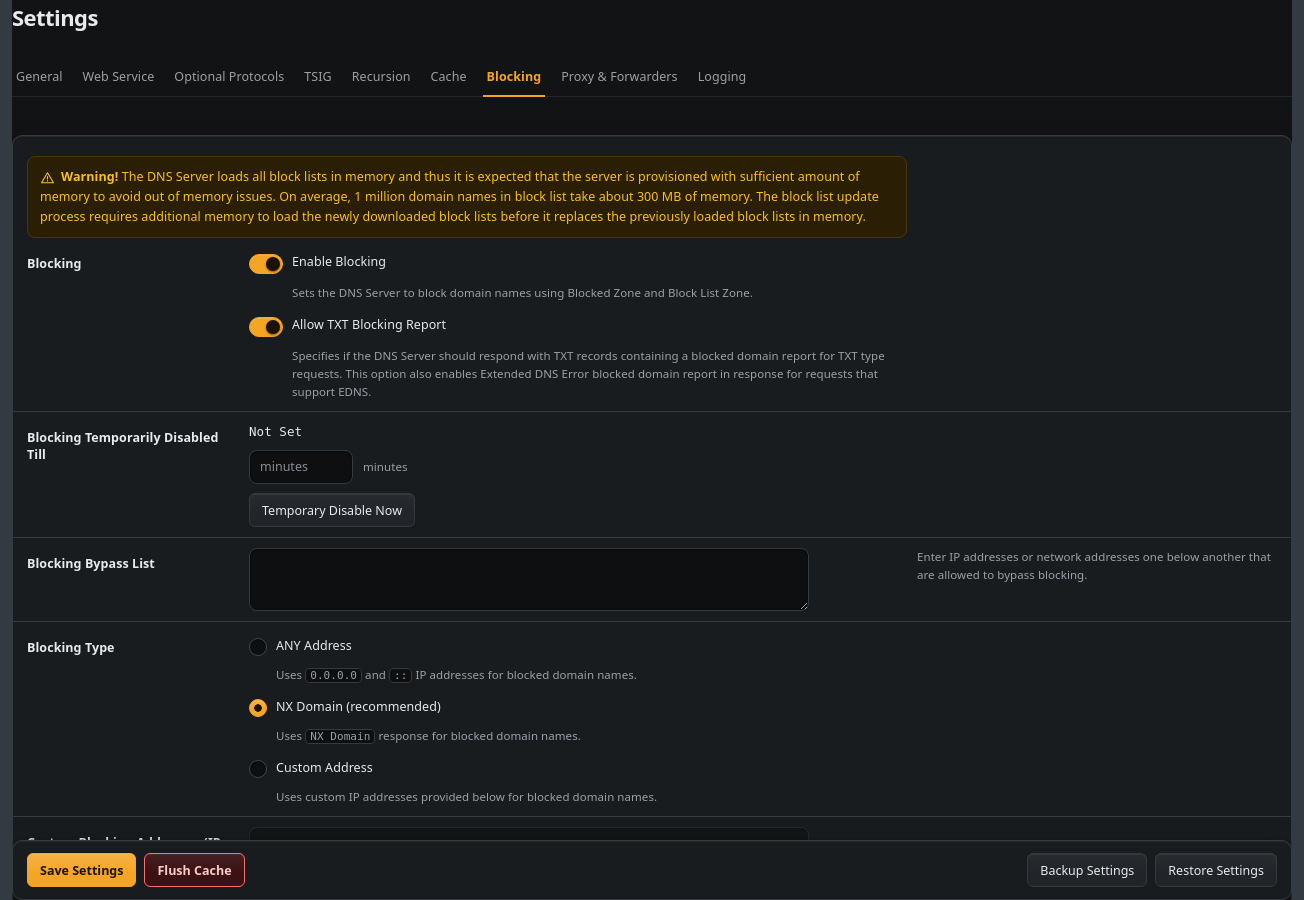
Test case: Settings: Blocking › with blocking off, Blocking Answer TTL goes off and the update interval does not (v15.5)
This screenshot has width=1304, height=900.
Check: the button "Save Settings" is shown, box x1=27 y1=853 x2=136 y2=887
Click the checkbox labelled "Enable Blocking".
click(266, 264)  # box x1=249 y1=254 x2=283 y2=274
(page scrolled)
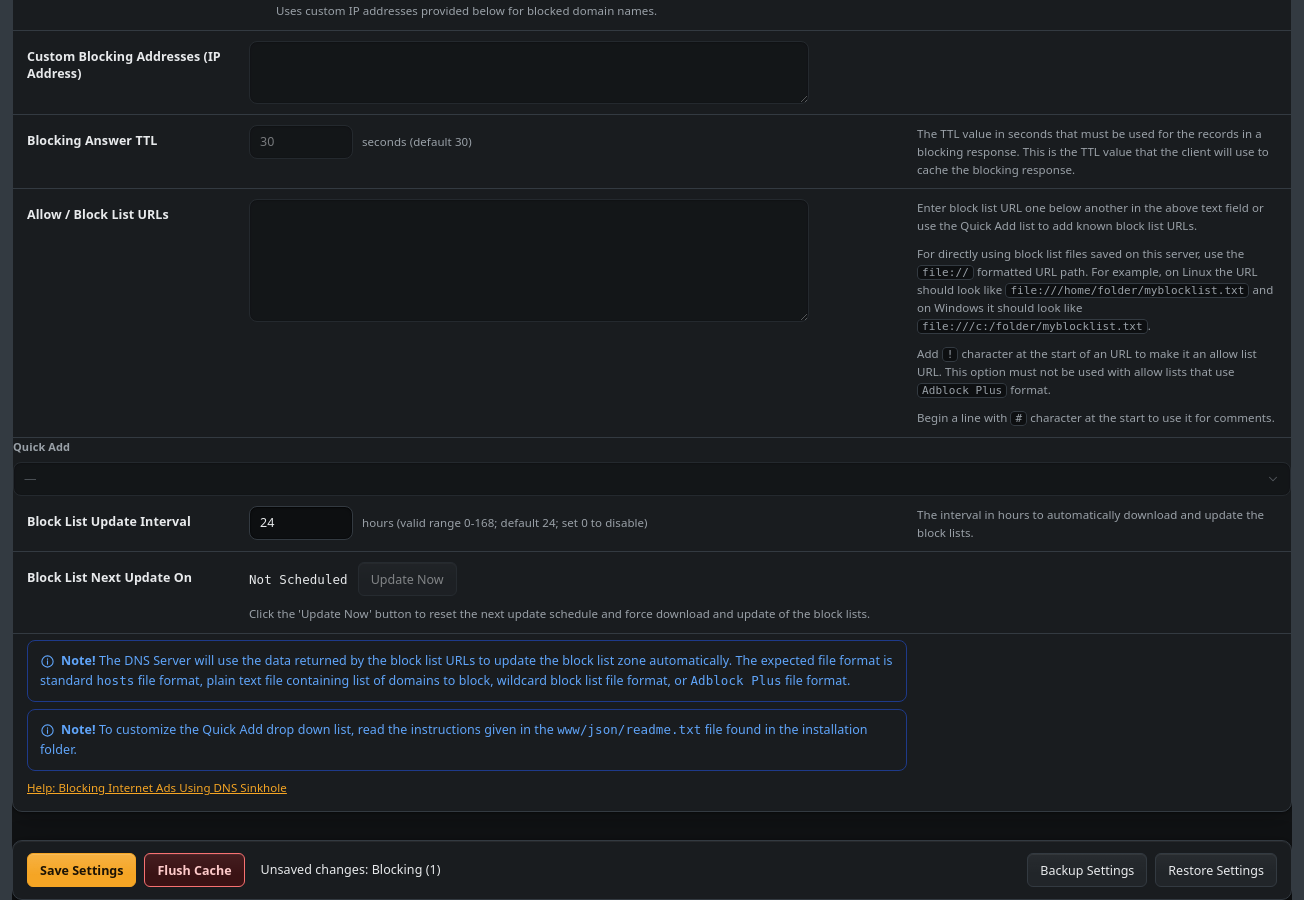
Check: the number field labelled "Block List Update Interval" is enabled, box x1=249 y1=506 x2=353 y2=540
Check: the field labelled "Blocking Answer TTL" is disabled, box x1=249 y1=125 x2=353 y2=159
